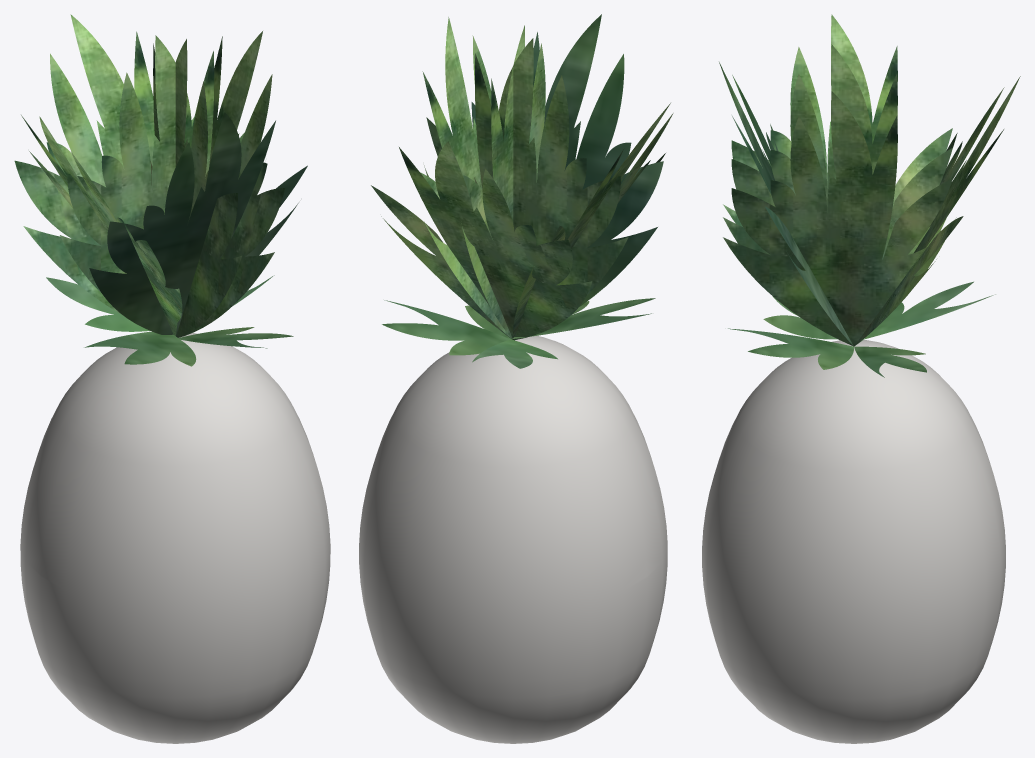
Rendered from piña.obj.
3 renders of one model, left to right at view 1: azimuth 30°, elevation 25°; view 2: azimuth 150°, elevation 25°; view 3: azimuth 270°, elevation 25°, orthographic.
Parts seen in each view (by area): view 1: Mesh1 Model, Mesh2 Model, Mesh4 Model, Mesh3 Model, Mesh7 Model, Mesh5 Model, Mesh6 Model, Mesh8 Model, Mesh9 Model; view 2: Mesh1 Model, Mesh4 Model, Mesh3 Model, Mesh2 Model, Mesh7 Model, Mesh5 Model, Mesh6 Model, Mesh10 Model, Mesh8 Model; view 3: Mesh1 Model, Mesh7 Model, Mesh5 Model, Mesh6 Model, Mesh4 Model, Mesh2 Model, Mesh9 Model, Mesh8 Model, Mesh10 Model.
Part boxes in pixels (x1=…): Mesh1 Model: x1=20, y1=333, x2=330, y2=743; Mesh2 Model: x1=89, y1=112, x2=307, y2=336; Mesh4 Model: x1=14, y1=14, x2=194, y2=314; Mesh3 Model: x1=60, y1=35, x2=265, y2=293; Mesh7 Model: x1=180, y1=31, x2=285, y2=337; Mesh5 Model: x1=150, y1=39, x2=241, y2=337; Mesh6 Model: x1=21, y1=115, x2=196, y2=366; Mesh8 Model: x1=46, y1=277, x2=149, y2=331; Mesh9 Model: x1=178, y1=327, x2=293, y2=348; Mesh1 Model: x1=359, y1=335, x2=667, y2=743; Mesh4 Model: x1=371, y1=141, x2=592, y2=340; Mesh3 Model: x1=424, y1=38, x2=628, y2=294; Mesh2 Model: x1=471, y1=14, x2=663, y2=306; Mesh7 Model: x1=420, y1=17, x2=511, y2=338; Mesh5 Model: x1=461, y1=25, x2=574, y2=338; Mesh6 Model: x1=511, y1=103, x2=673, y2=339; Mesh10 Model: x1=382, y1=300, x2=510, y2=355; Mesh8 Model: x1=472, y1=339, x2=557, y2=368; Mesh1 Model: x1=702, y1=340, x2=1005, y2=743; Mesh7 Model: x1=723, y1=91, x2=956, y2=346; Mesh5 Model: x1=723, y1=44, x2=952, y2=259; Mesh6 Model: x1=723, y1=14, x2=952, y2=344; Mesh4 Model: x1=854, y1=76, x2=1020, y2=346; Mesh2 Model: x1=719, y1=62, x2=853, y2=345; Mesh9 Model: x1=728, y1=328, x2=853, y2=369; Mesh8 Model: x1=864, y1=281, x2=995, y2=339; Mesh10 Model: x1=854, y1=346, x2=926, y2=377.
Size of the model in its own units: 6.68 by 15.77 by 6.68.
